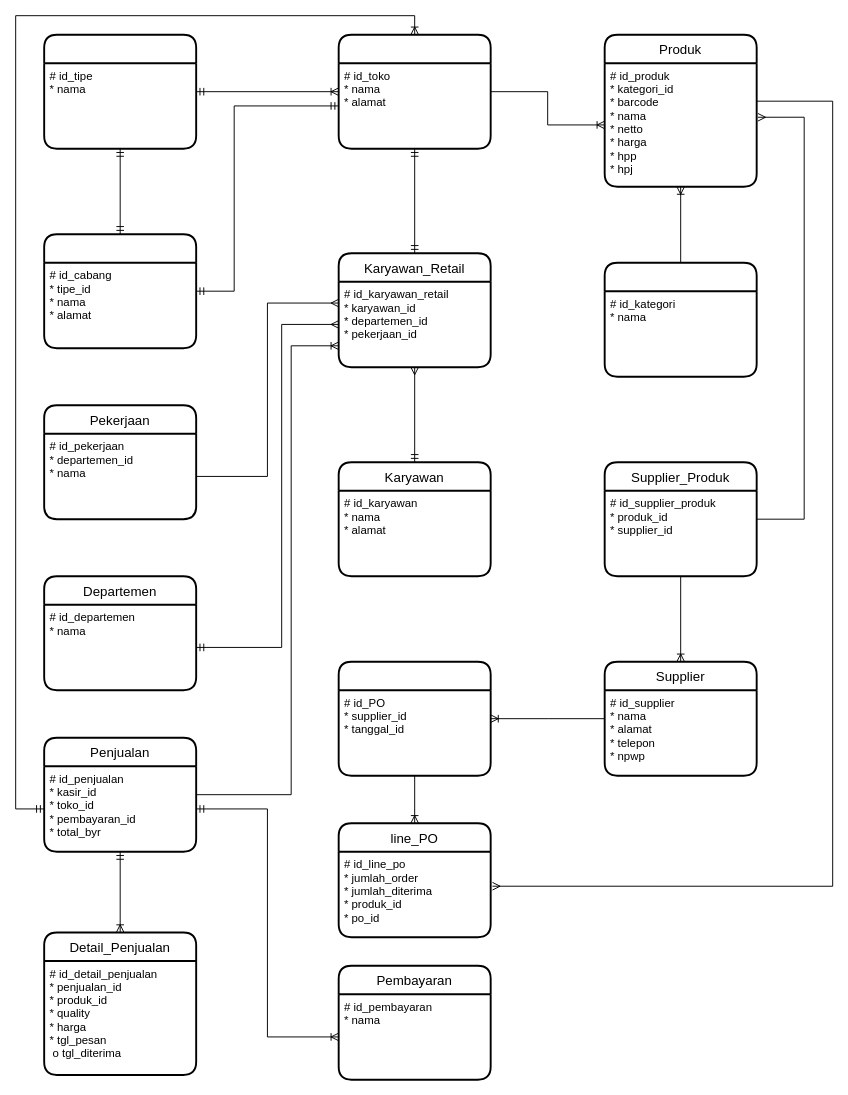
The diagram is 848 pixels wide and 1095 high, and some of its shapes have lost their labels. Here are the shapes that lost their labels. From the top down, the box of each, then its label:
(43, 33, 197, 149): Tipe_Retail
(337, 33, 491, 149): Toko_Retail
(43, 233, 197, 349): Cabang_Retail
(603, 261, 757, 377): Kategori_Produk
(337, 660, 491, 776): PO
